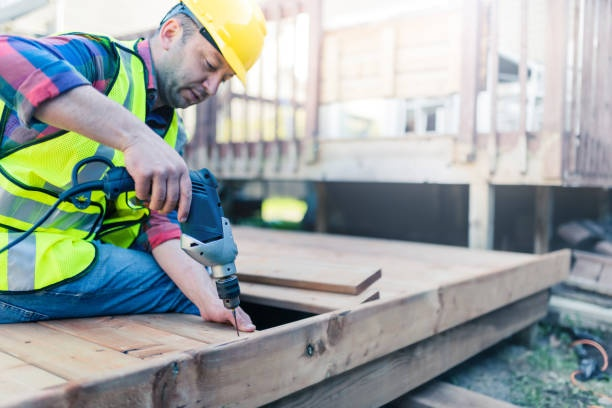driller: (100, 164, 247, 339)
helmet: (178, 3, 268, 81)
person: (1, 1, 269, 344)
